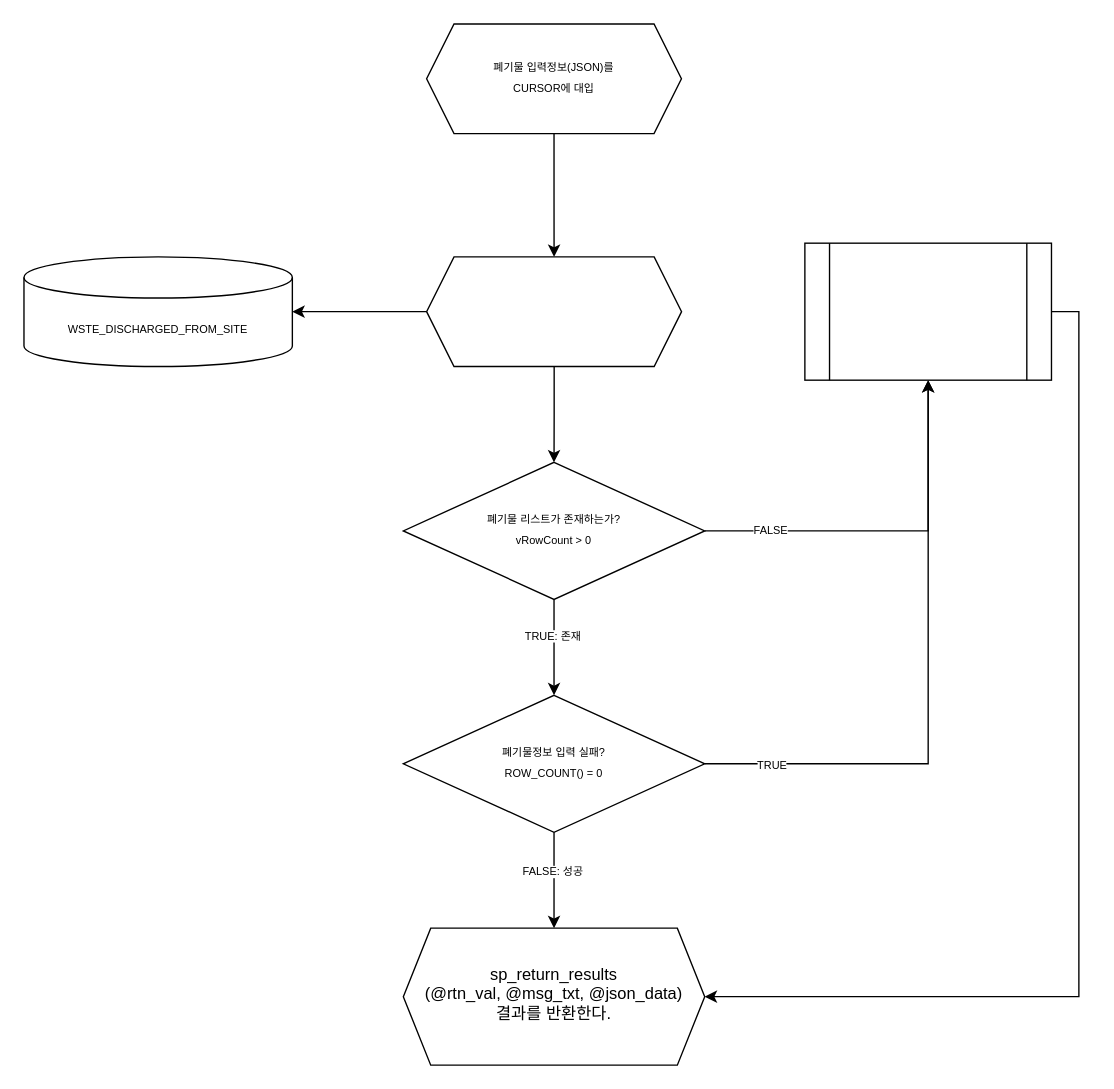
This 1114x1089 diagram has some shape labels left out. The shapes that lost their labels are listed below. From the top down, each one's centre as x and y in pixels, then its label:
At (553,311): "CURSOR의 값을 테이블에 입력 (INSERT)".
At (927,311): "EXCEPTION HANDLER SQLSTATE 23000".
